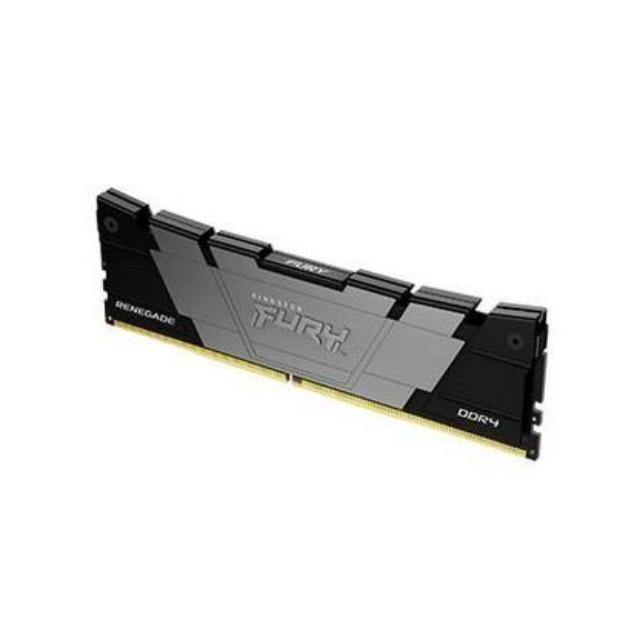RAM: (94, 174, 557, 466)
